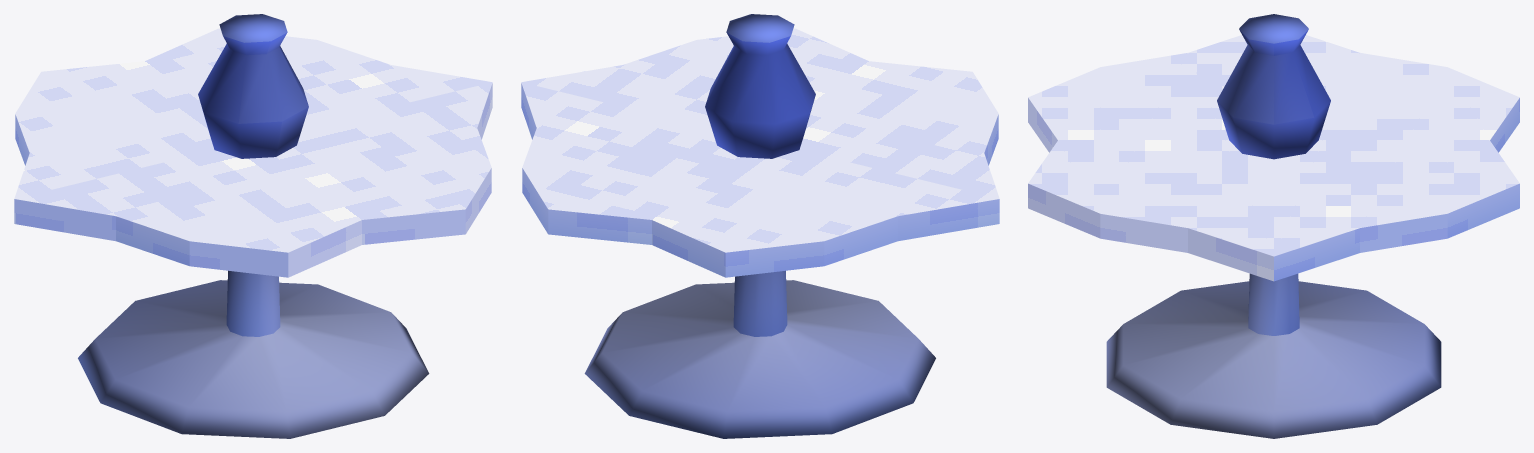
File: furn.table__flower_table.glb
3 views of the same model, side by side, from view 1: azimuth 30°, elevation 25°; view 2: azimuth 150°, elevation 25°; view 3: azimuth 270°, elevation 25° (orthographic).
Parts seen in each view (by area): view 1: kit_table_top, kit_table_base, kit_ornament; view 2: kit_table_top, kit_table_base, kit_ornament; view 3: kit_table_top, kit_table_base, kit_ornament.
Boxes of the visible parts, box(x1,y1,x2,y2) form: kit_table_top: box(14, 28, 492, 277); kit_table_base: box(78, 270, 429, 438); kit_ornament: box(198, 14, 308, 158); kit_table_top: box(521, 28, 999, 277); kit_table_base: box(584, 270, 935, 438); kit_ornament: box(705, 14, 815, 158); kit_table_top: box(1028, 35, 1519, 281); kit_table_base: box(1106, 273, 1441, 438); kit_ornament: box(1217, 14, 1330, 159).
Size of the model in its own units: 1 by 0.674 by 0.8949.
3 materials, 1 textured.
